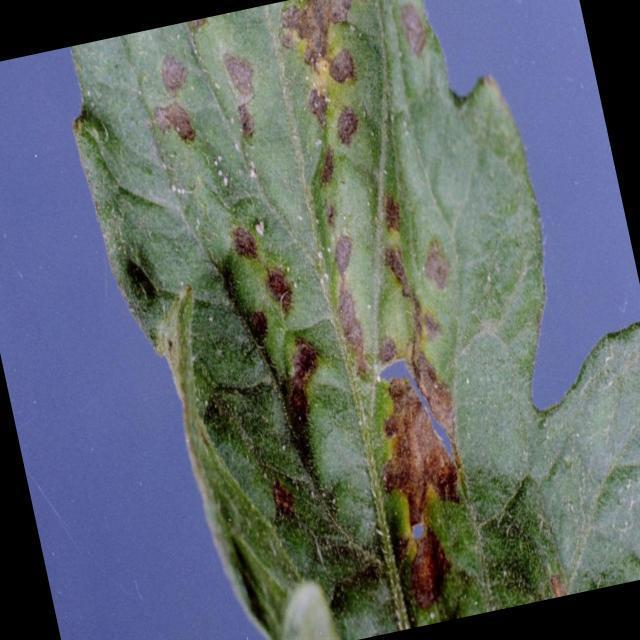Bacterial Spot: (145, 0, 548, 640)
